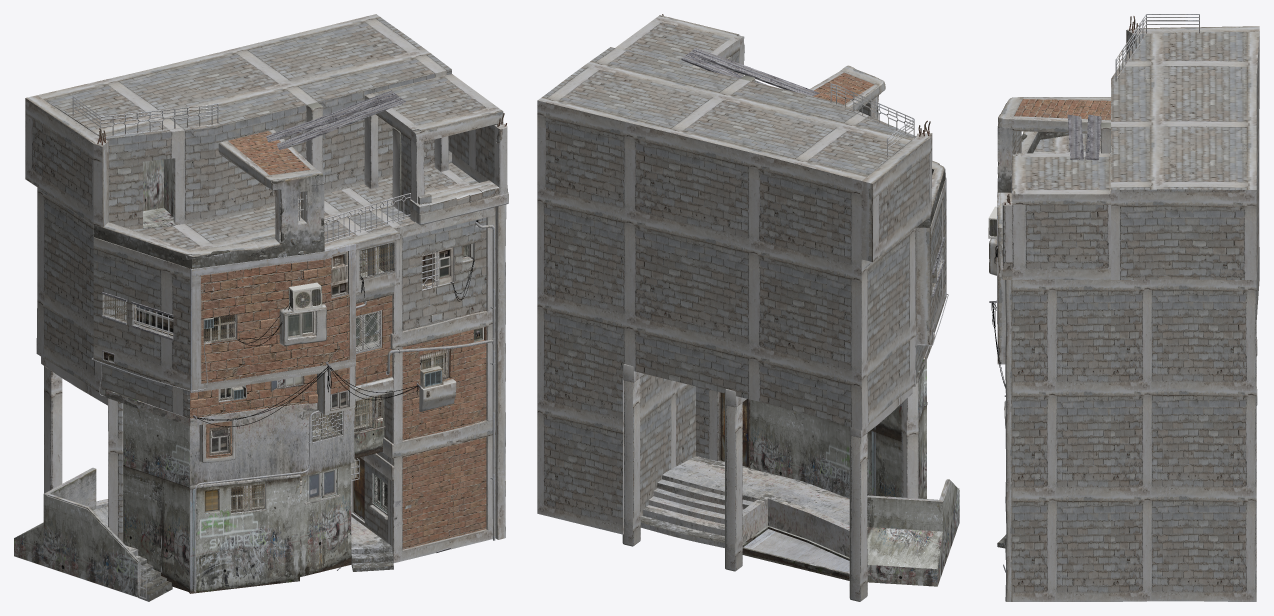
The picture shows the model from 3 angles, left to right: view 1: azimuth 30°, elevation 25°; view 2: azimuth 150°, elevation 25°; view 3: azimuth 270°, elevation 25°; orthographic projection. The views are drawn at different scales.
Parts seen in each view (by area): view 1: Cube.001, Cube.002; view 2: Cube.001; view 3: Cube.001.
Boxes of the visible parts, x1,y1,x2,y2 form: Cube.001: [14, 14, 508, 601]; Cube.002: [197, 255, 474, 426]; Cube.001: [537, 14, 959, 601]; Cube.001: [988, 14, 1259, 601].
Bounding box in the file's own units: 11.21 × 12.7 × 7.06.
29 materials, 25 textured.
